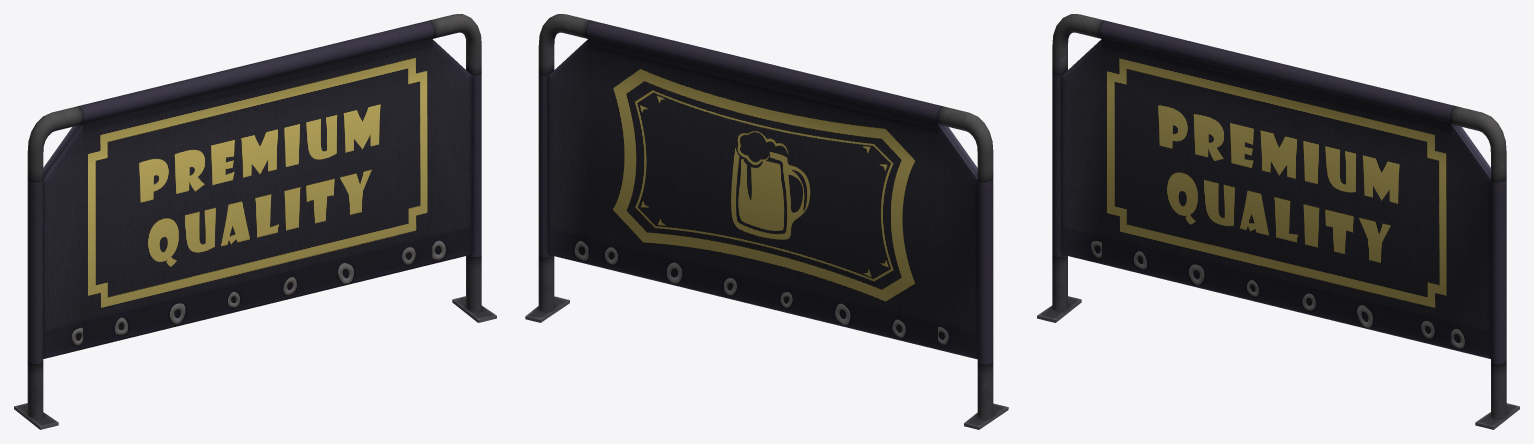
Rendered from StreetCafeBarrier01_3.FBX.
3 renders of one model, left to right at view 1: azimuth 30°, elevation 25°; view 2: azimuth 150°, elevation 25°; view 3: azimuth 330°, elevation 25°, orthographic.
Visible parts, largest first — view 1: StreetCafeBarrier01_3; view 2: StreetCafeBarrier01_3; view 3: StreetCafeBarrier01_3.
Boxes of the visible parts, box(x1,y1,x2,y2) form: StreetCafeBarrier01_3: box(14, 14, 496, 429); StreetCafeBarrier01_3: box(525, 14, 1008, 429); StreetCafeBarrier01_3: box(1037, 14, 1519, 429).
Size of what is drawn, in the model's own units: 1.8 by 1.13 by 0.19.
